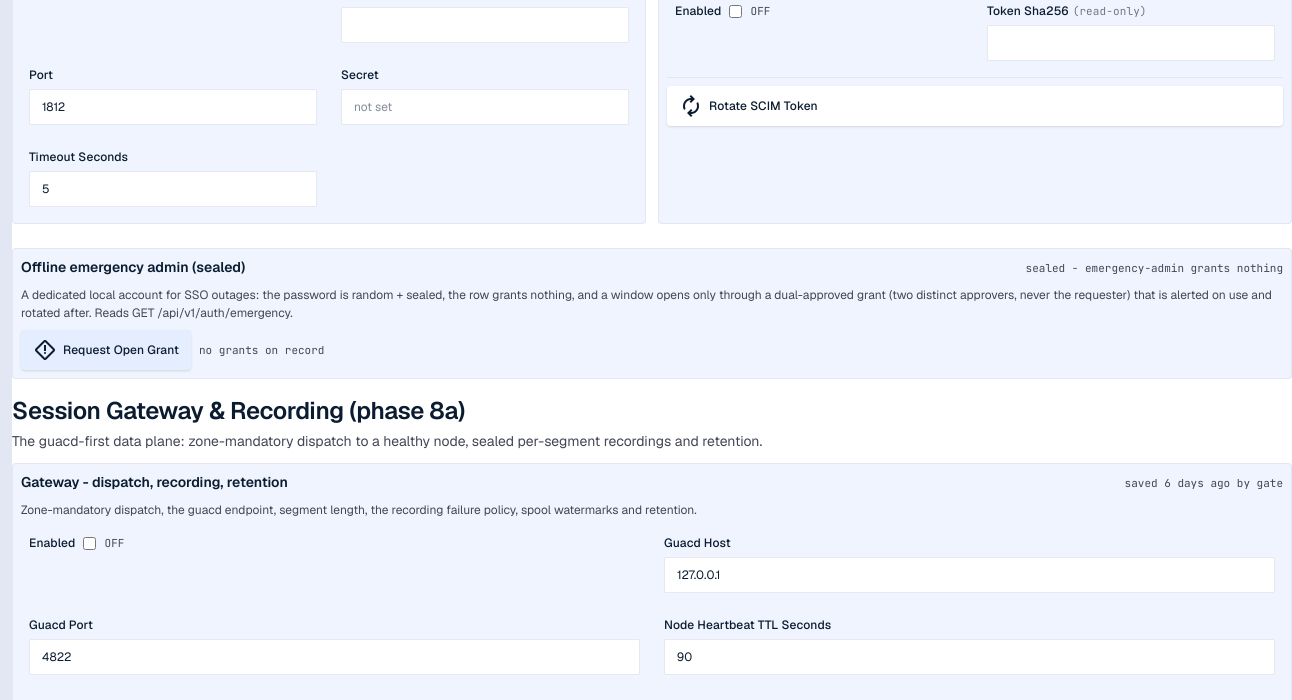
it: sealed emergency card (screen 11, ADR-0015 11.4) › a granted request clears the refusal, refetches and shows the pending state
(page scrolled)
Expected: the text with test id "settings-emergency-state" reads "sealed - emergency-admin grants nothing", [1026,260,1283,274]
Click the button "Request Open Grant" at [106, 350], box [21,330,191,370]
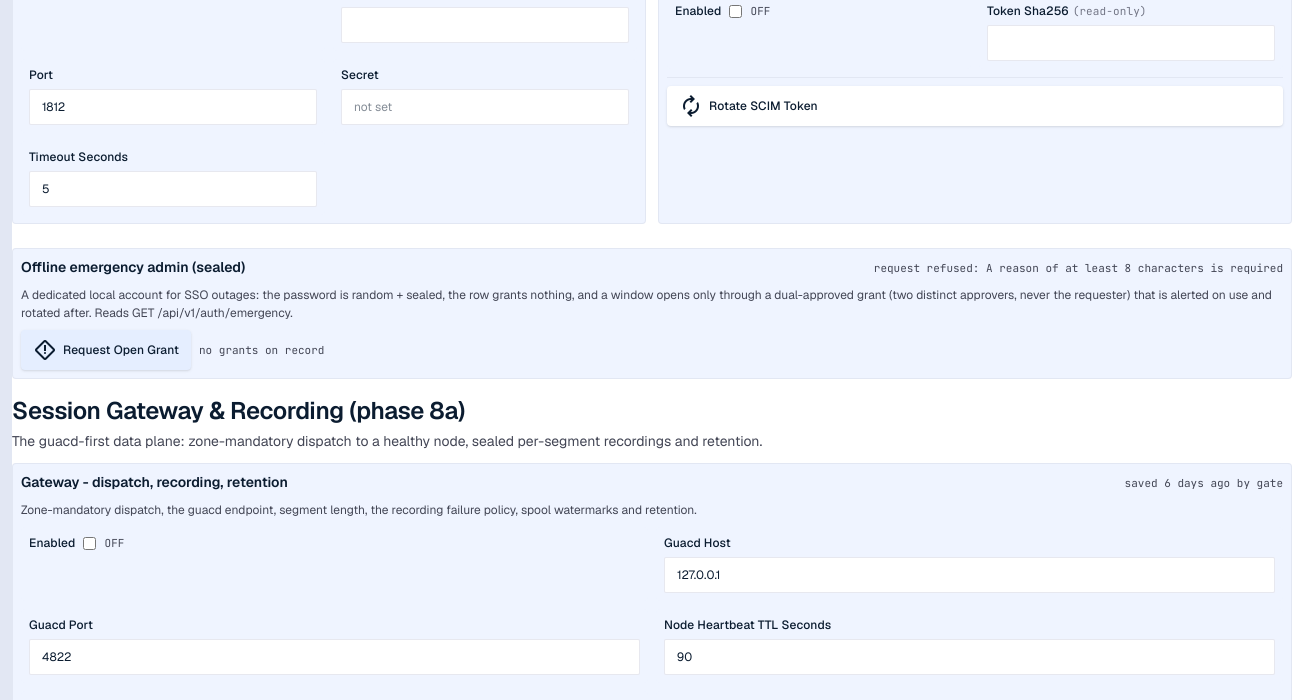
Now the text with test id "settings-emergency-state" reads "request refused: A reason of at least 8 characters is required", box [874,260,1283,274]
Click the button "Request Open Grant" at [106, 350], box [21,330,191,370]
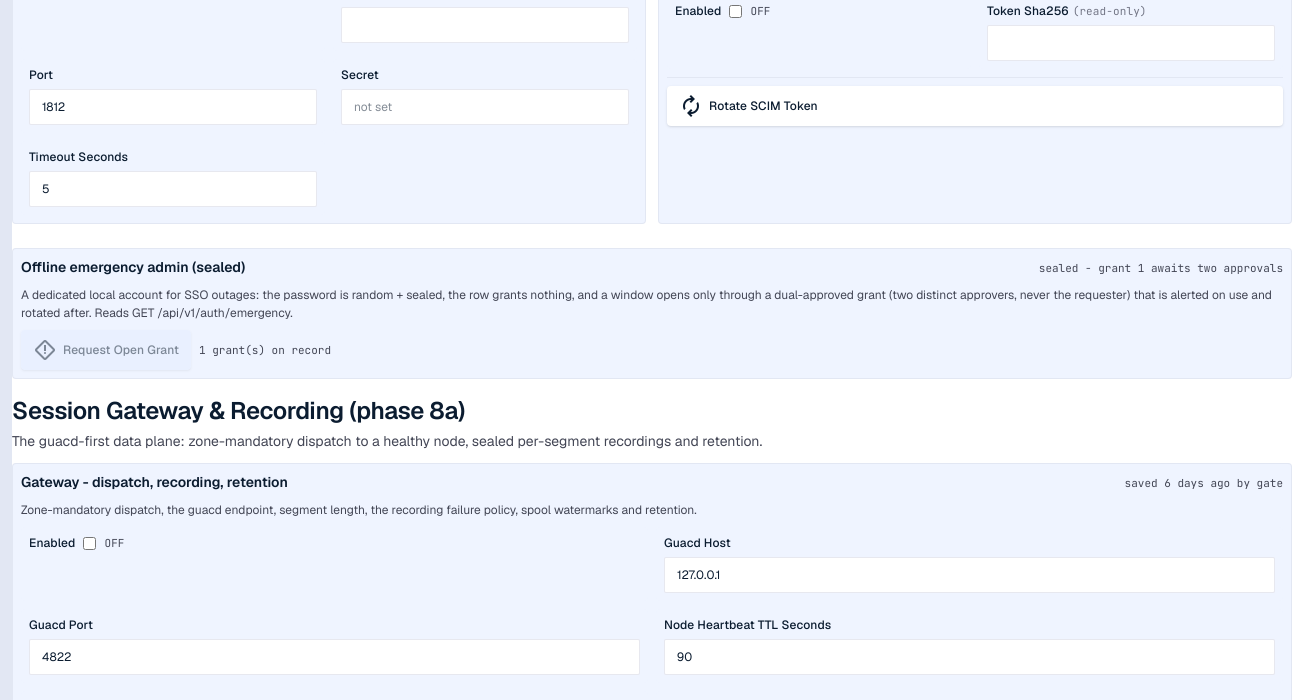
Now the text with test id "settings-emergency-state" reads "sealed - grant 1 awaits two approvals", box [1039,260,1283,274]
Now the button "Request Open Grant" is disabled, box [21,330,191,370]
